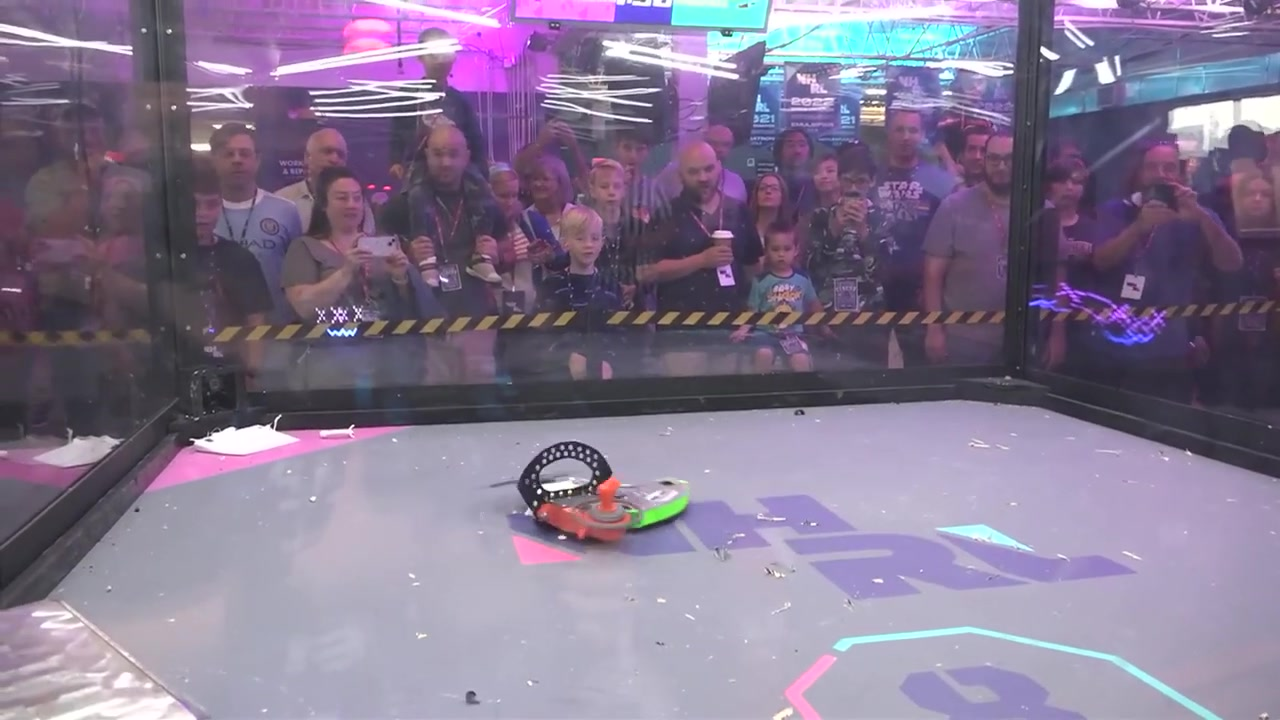combatbot: (515, 472, 629, 544), (609, 478, 692, 529)
debris: (321, 428, 358, 438)
housebot: (1, 594, 202, 718)
minibot: (192, 423, 293, 453)
